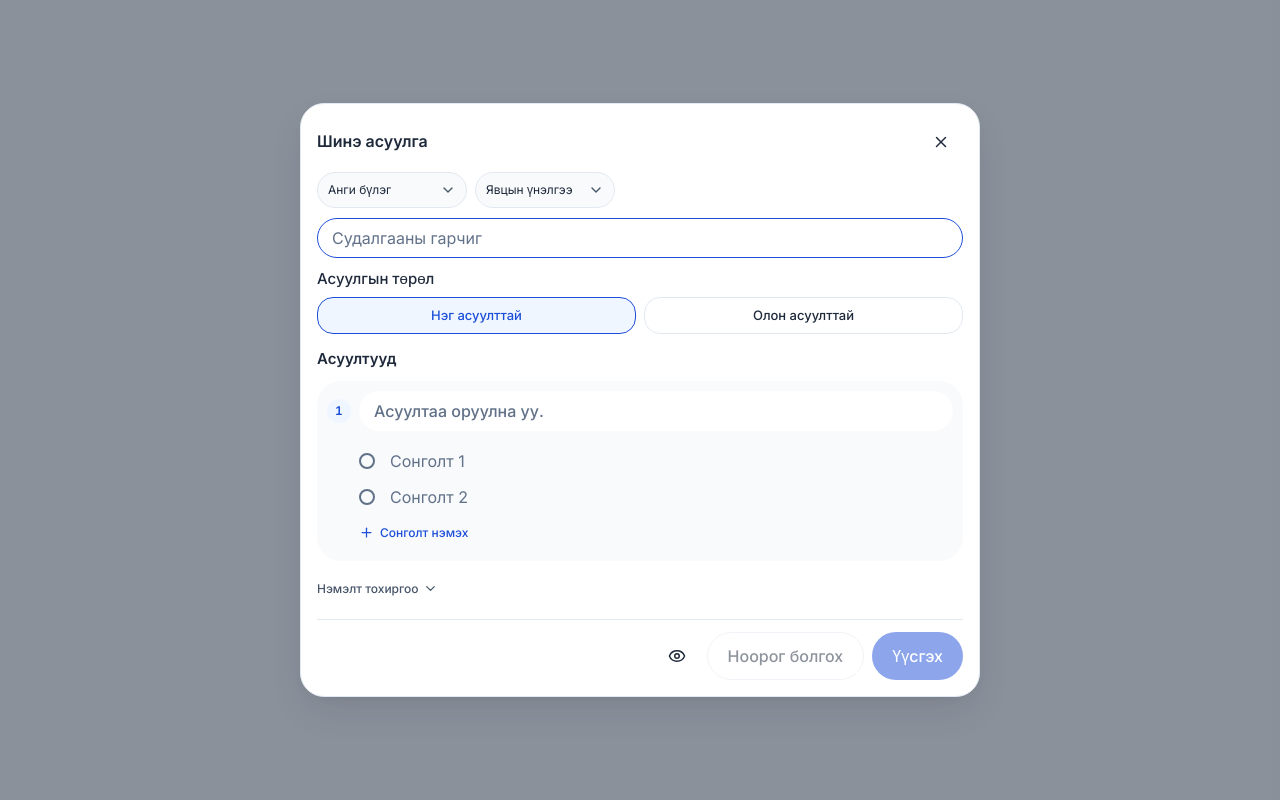
single-page survey creation › removes description from a poll and offers Other
Expected: the field labelled "Судалгааны гарчиг" is shown, [317,218,963,258]
What coordinates should you click on to do the following:
click the dropdown named "Үнэлгээний төрөл"
I would click on:
 (545, 190)
Its box is [475,172,615,208].
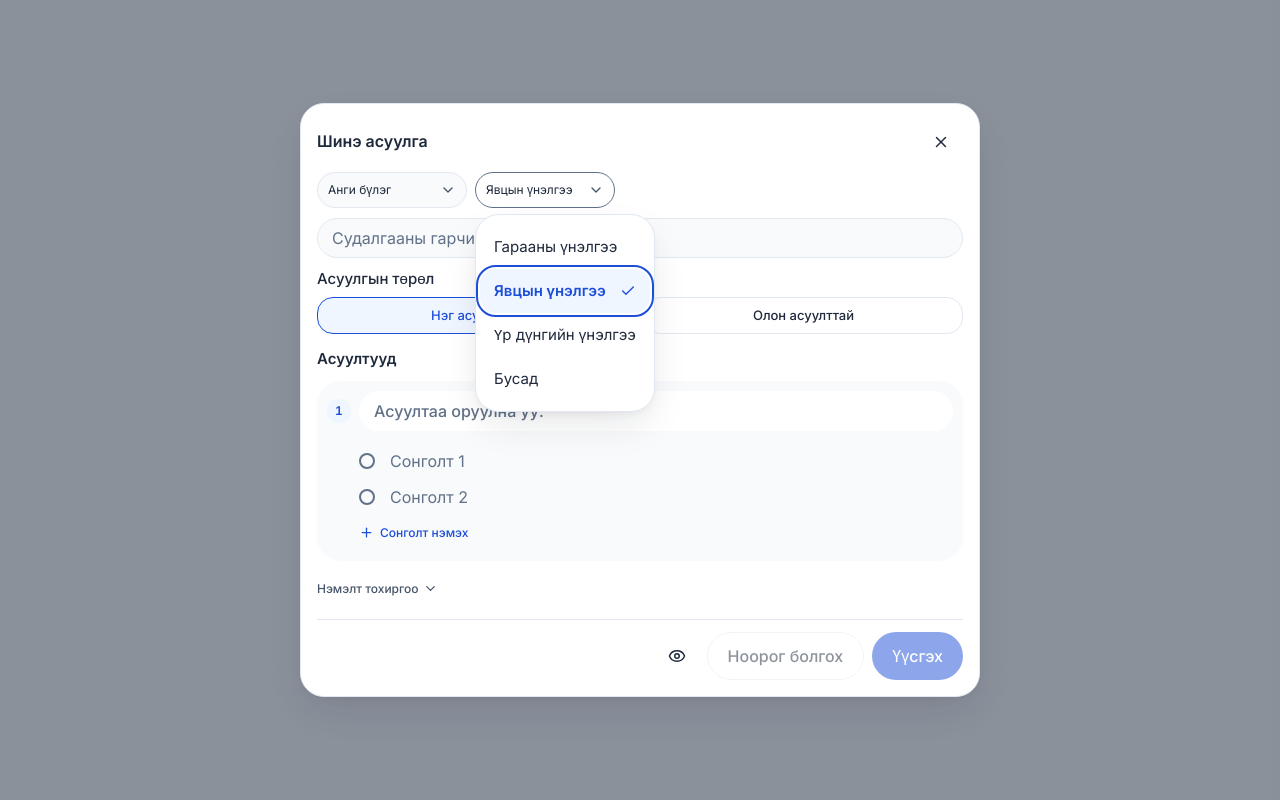
Expected: the option "Бусад" is shown, [494,369,538,388]
